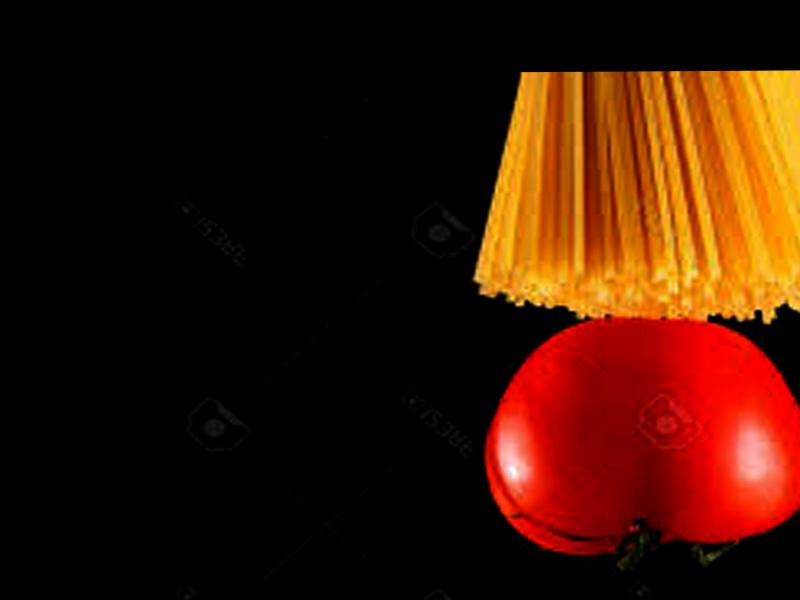Tomato: (488, 315, 800, 557)
